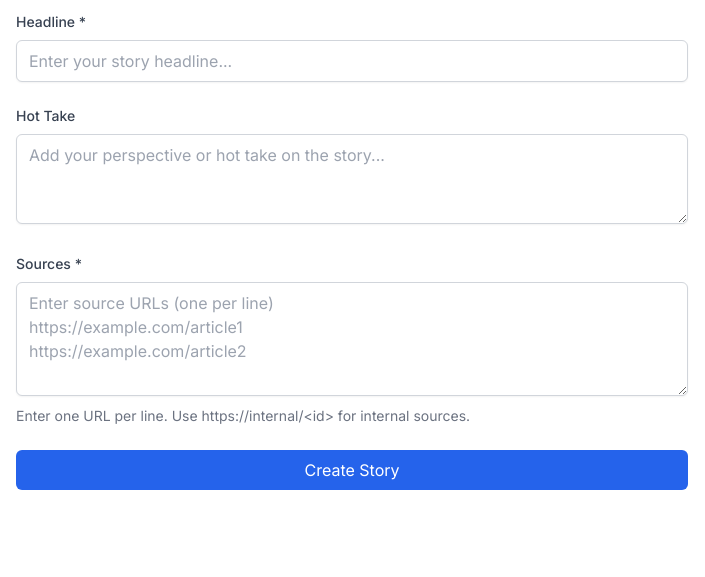
it: StoryCreationForm › handles creation errors gracefully
Type "Test Headline" into the field labelled "Headline *".
click(352, 61); type("Test Headline")  # box [16, 40, 688, 82]
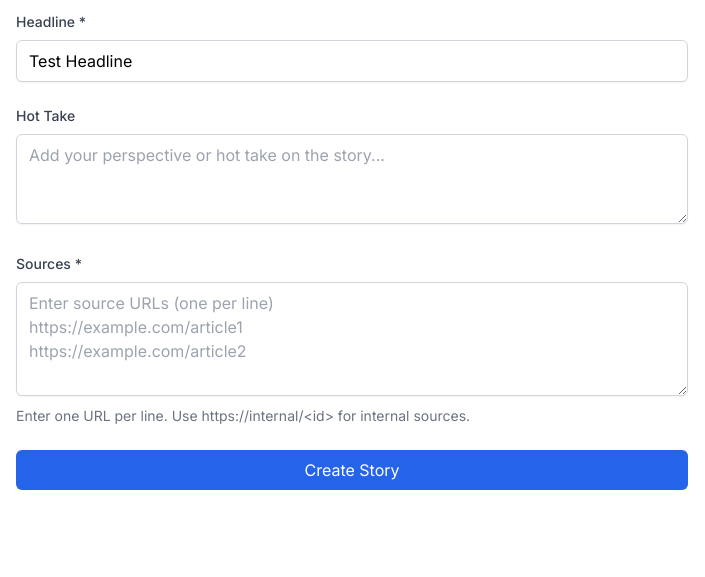
Replace the text in the text box labelled "Sources *" with "https://example.com/source1" at (352,339), box [16, 282, 688, 396]
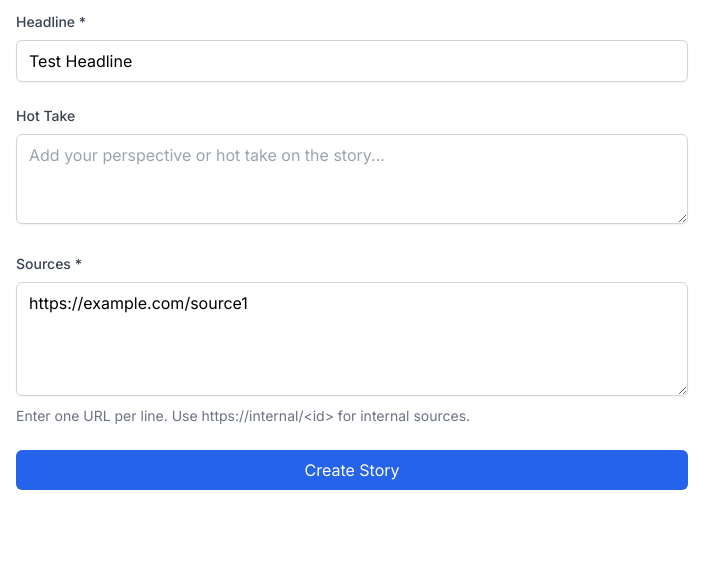
Click the button "Create Story".
click(352, 470)  # box [16, 450, 688, 490]
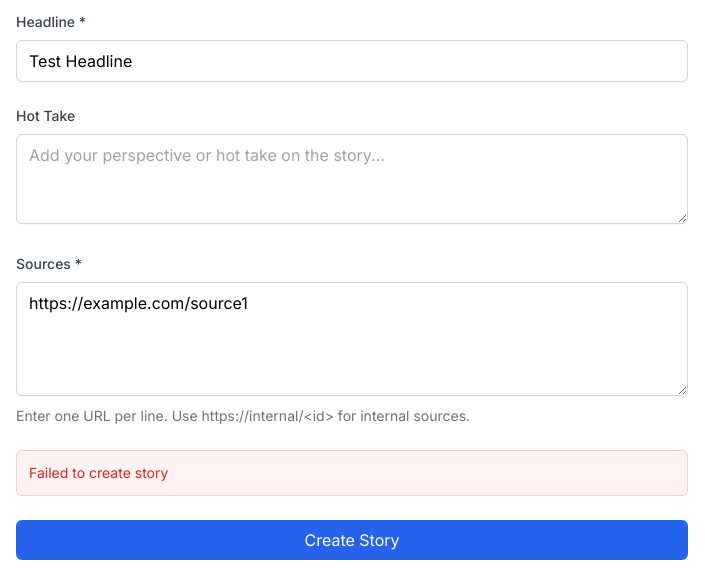
Now the text "Failed to create story" is shown, box [29, 464, 168, 481]
